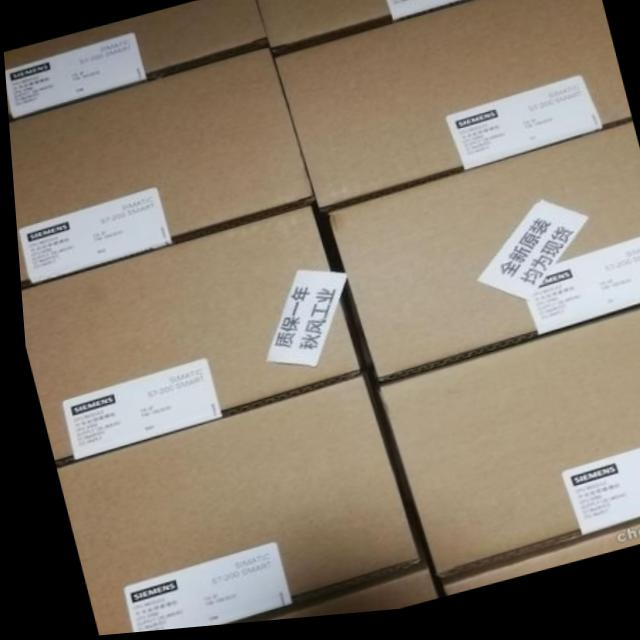box: (50, 378, 412, 636), (17, 207, 355, 469), (316, 133, 640, 396), (273, 0, 629, 219), (361, 316, 640, 593), (7, 51, 313, 288), (3, 0, 269, 122), (254, 0, 505, 64), (430, 530, 640, 602), (221, 568, 433, 627)
